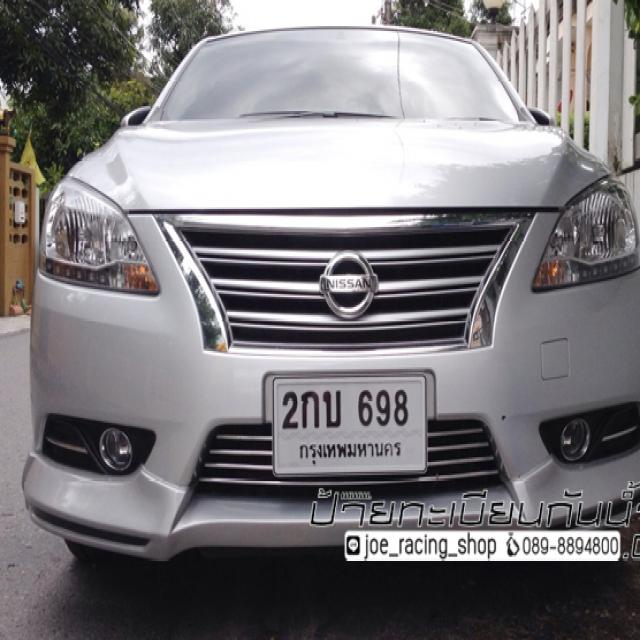license_plate: (268, 372, 431, 482)
